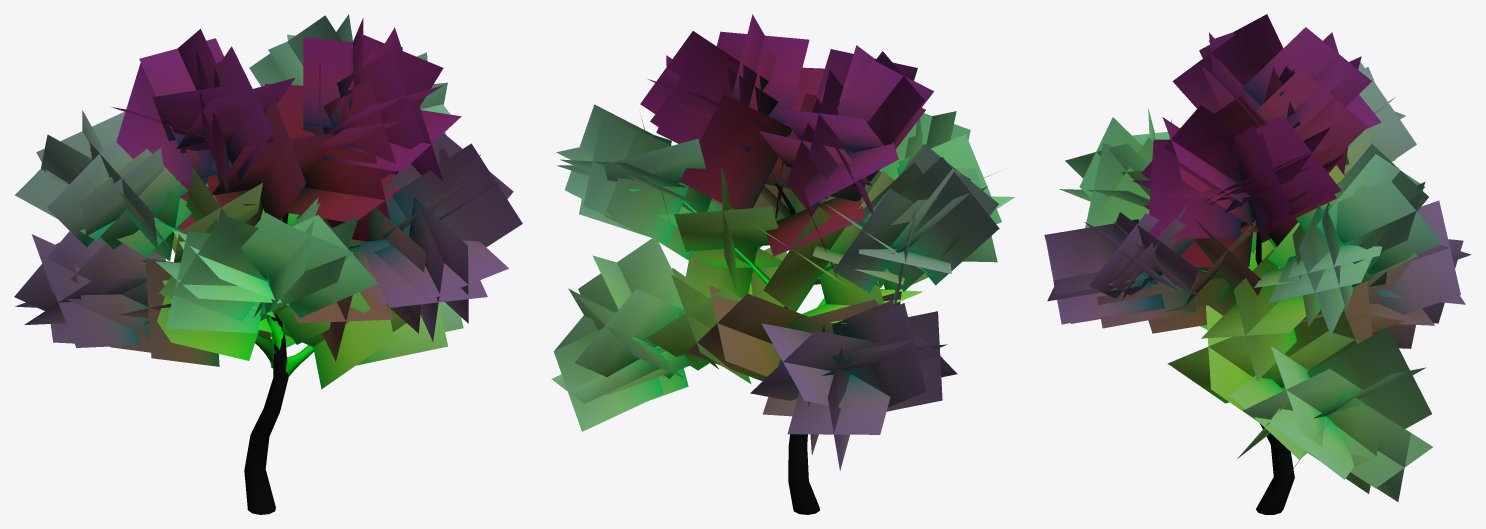
Rendered from URP_Tree_3_LOD_2.fbx.
The picture shows the model from 3 angles, left to right: view 1: azimuth 30°, elevation 25°; view 2: azimuth 150°, elevation 25°; view 3: azimuth 270°, elevation 25°; orthographic projection. The views are drawn at different scales.
Visible parts, largest first — view 1: Tree_3_LOD_2; view 2: Tree_3_LOD_2; view 3: Tree_3_LOD_2.
Boxes of the visible parts, x1,y1,x2,y2 form: Tree_3_LOD_2: (14,14,522,514); Tree_3_LOD_2: (551,14,1014,514); Tree_3_LOD_2: (1044,14,1471,514).
Bounding box in the file's own units: 536 × 575 × 479.
